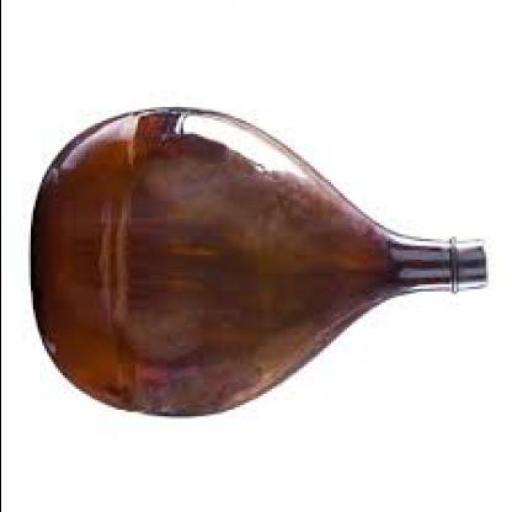glass: (32, 107, 487, 414)
